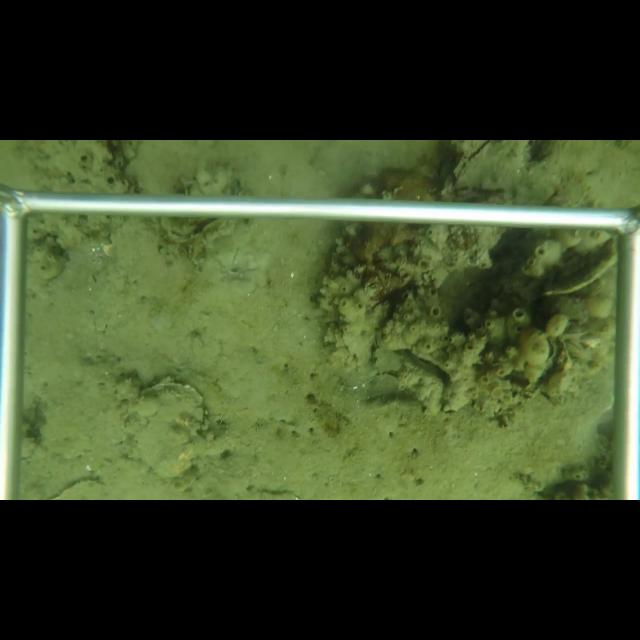Oyster-Closed: (118, 376, 211, 480), (337, 305, 385, 375), (189, 218, 228, 241)
Oyster-Open: (442, 140, 532, 195), (519, 325, 558, 389), (554, 341, 576, 380)
